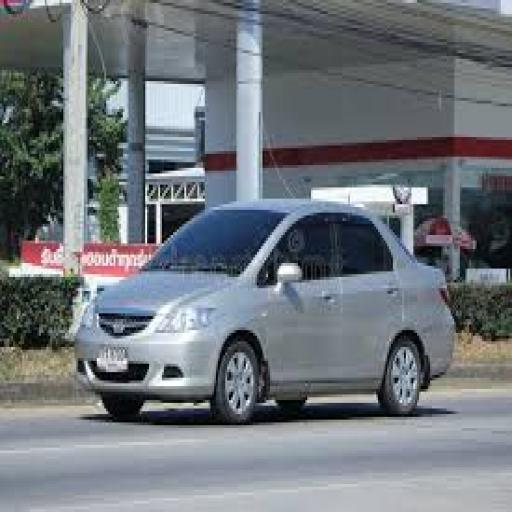License: (92, 340, 131, 372)
